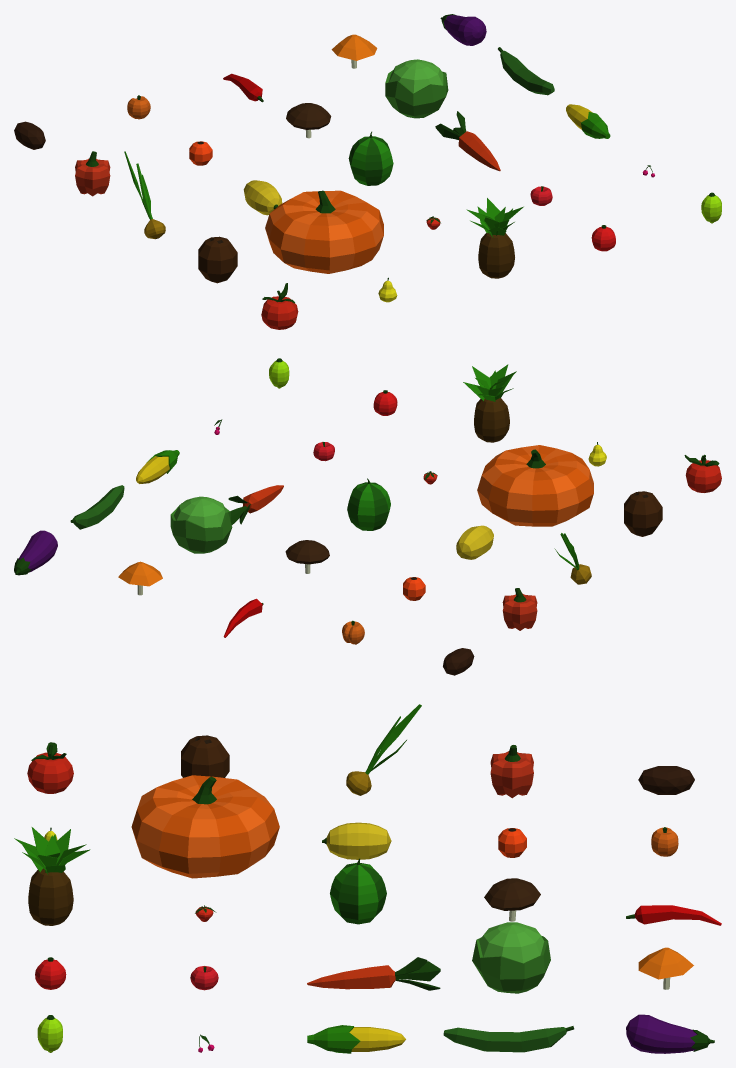
3 renders of one model, top to bottom at view 1: azimuth 30°, elevation 25°; view 2: azimuth 150°, elevation 25°; view 3: azimuth 270°, elevation 25°, orthographic. The views are drawn at different scales.
Parts seen in each view (by area): view 1: Pumpkin_Sphere.014, Cabbage_Sphere.019, Pineapple_Plane.117, Watermelon_Sphere, Coconut_Sphere.009, Pepper_Cylinder.013, Carrot_Cylinder.008, Tomato_Sphere.004, Cucumber_Cylinder.007, Eggplant_Sphere.015, Mushroom2_Cylinder.021, Melon_Sphere.008 (+6 smaller); view 2: Pumpkin_Sphere.014, Cabbage_Sphere.019, Pineapple_Plane.117, Watermelon_Sphere, Coconut_Sphere.009, Eggplant_Sphere.015, Pepper_Cylinder.013, Tomato_Sphere.004, Melon_Sphere.008, Cucumber_Cylinder.007, Carrot_Cylinder.008, Mushroom2_Cylinder.021 (+5 smaller); view 3: Pumpkin_Sphere.014, Cabbage_Sphere.019, Pineapple_Plane.117, Watermelon_Sphere, Carrot_Cylinder.008, Eggplant_Sphere.015, Cucumber_Cylinder.007, Corn_Sphere.018, Melon_Sphere.008, Pepper_Cylinder.013, Coconut_Sphere.009, Tomato_Sphere.004 (+9 smaller).
Boxes of the visible parts, left/top/right/bottom form: Pumpkin_Sphere.014: left=265, top=190, right=383, bottom=273; Cabbage_Sphere.019: left=385, top=59, right=448, bottom=118; Pineapple_Plane.117: left=466, top=198, right=523, bottom=278; Watermelon_Sphere: left=348, top=131, right=393, bottom=185; Coconut_Sphere.009: left=198, top=236, right=237, bottom=283; Pepper_Cylinder.013: left=75, top=151, right=110, bottom=196; Carrot_Cylinder.008: left=435, top=111, right=500, bottom=171; Tomato_Sphere.004: left=261, top=283, right=298, bottom=329; Cucumber_Cylinder.007: left=498, top=47, right=554, bottom=95; Eggplant_Sphere.015: left=440, top=14, right=486, bottom=45; Mushroom2_Cylinder.021: left=286, top=103, right=331, bottom=138; Melon_Sphere.008: left=243, top=180, right=282, bottom=215; Pumpkin_Sphere.014: left=477, top=445, right=593, bottom=526; Cabbage_Sphere.019: left=170, top=496, right=232, bottom=553; Pineapple_Plane.117: left=463, top=364, right=516, bottom=442; Watermelon_Sphere: left=347, top=478, right=390, bottom=530; Coconut_Sphere.009: left=624, top=491, right=662, bottom=536; Eggplant_Sphere.015: left=14, top=530, right=57, bottom=575; Pepper_Cylinder.013: left=502, top=588, right=537, bottom=630; Tomato_Sphere.004: left=684, top=454, right=721, bottom=492; Melon_Sphere.008: left=456, top=525, right=493, bottom=559; Cucumber_Cylinder.007: left=70, top=485, right=124, bottom=529; Carrot_Cylinder.008: left=228, top=485, right=283, bottom=524; Mushroom2_Cylinder.021: left=285, top=540, right=329, bottom=573; Pumpkin_Sphere.014: left=131, top=775, right=279, bottom=878; Cabbage_Sphere.019: left=472, top=922, right=550, bottom=993; Pineapple_Plane.117: left=14, top=827, right=90, bottom=925; Watermelon_Sphere: left=330, top=858, right=386, bottom=924; Carrot_Cylinder.008: left=307, top=957, right=440, bottom=990; Eggplant_Sphere.015: left=626, top=1014, right=714, bottom=1053; Cucumber_Cylinder.007: left=443, top=1026, right=574, bottom=1052; Corn_Sphere.018: left=307, top=1025, right=405, bottom=1053; Melon_Sphere.008: left=322, top=822, right=391, bottom=859; Pepper_Cylinder.013: left=490, top=745, right=533, bottom=798; Coconut_Sphere.009: left=181, top=735, right=229, bottom=777; Tomato_Sphere.004: left=27, top=742, right=73, bottom=793.
Bounding box in the file's own units: 42.81 × 6.36 × 46.01.
